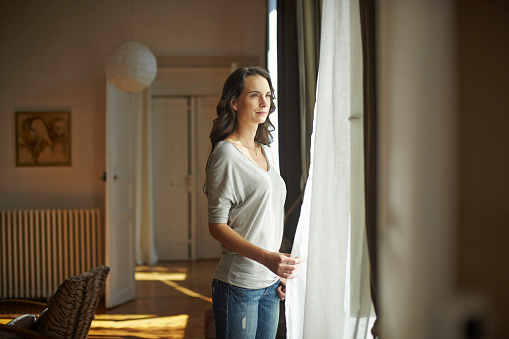em pe: (202, 62, 298, 339)
